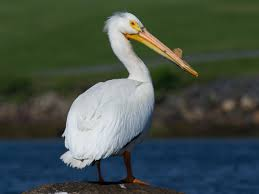pelican: (60, 13, 199, 188)
